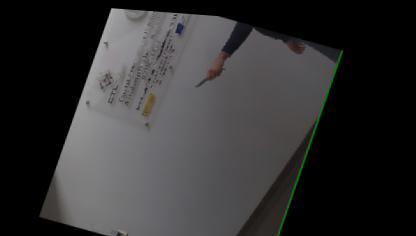knife: (193, 56, 228, 90)
